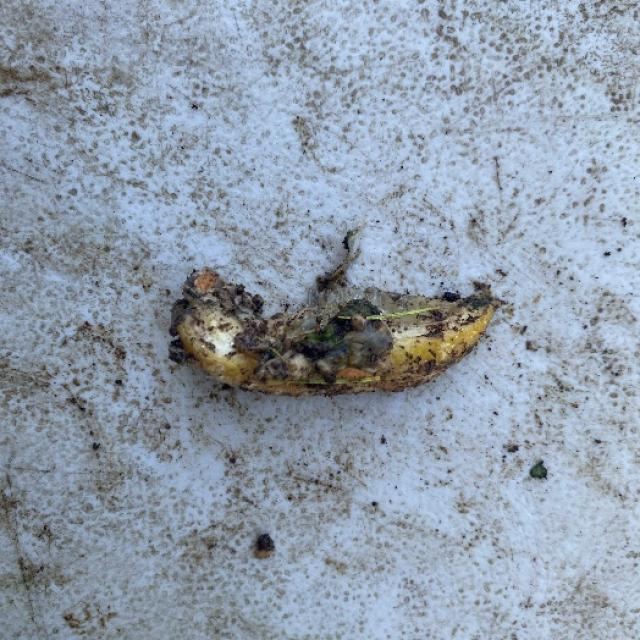organik: (169, 245, 513, 419)
